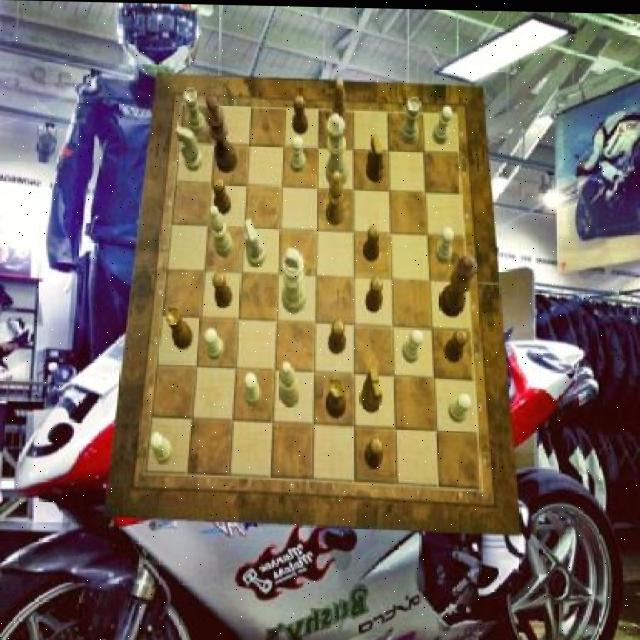bishop: (326, 170, 344, 225), (329, 76, 346, 134)
black-bishop: (205, 94, 237, 172)
black-king: (359, 365, 382, 410), (366, 133, 384, 182)
black-knight: (443, 326, 466, 361), (212, 272, 232, 308), (365, 276, 383, 312), (212, 176, 229, 214), (292, 94, 308, 133), (364, 225, 381, 261), (364, 436, 383, 468), (329, 318, 346, 353)
black-pawn: (438, 252, 477, 316)
black-queen: (165, 304, 192, 349), (326, 375, 346, 417)
black-rook: (208, 203, 232, 256), (279, 360, 302, 406)
white-bishop: (282, 246, 306, 313)
white-king: (175, 124, 203, 170), (244, 218, 266, 266)
white-knight: (432, 104, 452, 143), (401, 326, 423, 361), (150, 430, 172, 463), (434, 226, 454, 262), (203, 328, 223, 361), (448, 391, 470, 420), (288, 134, 304, 172), (244, 372, 261, 406)
white-pawn: (324, 110, 348, 185)
white-queen: (183, 86, 206, 136), (399, 96, 422, 144)
